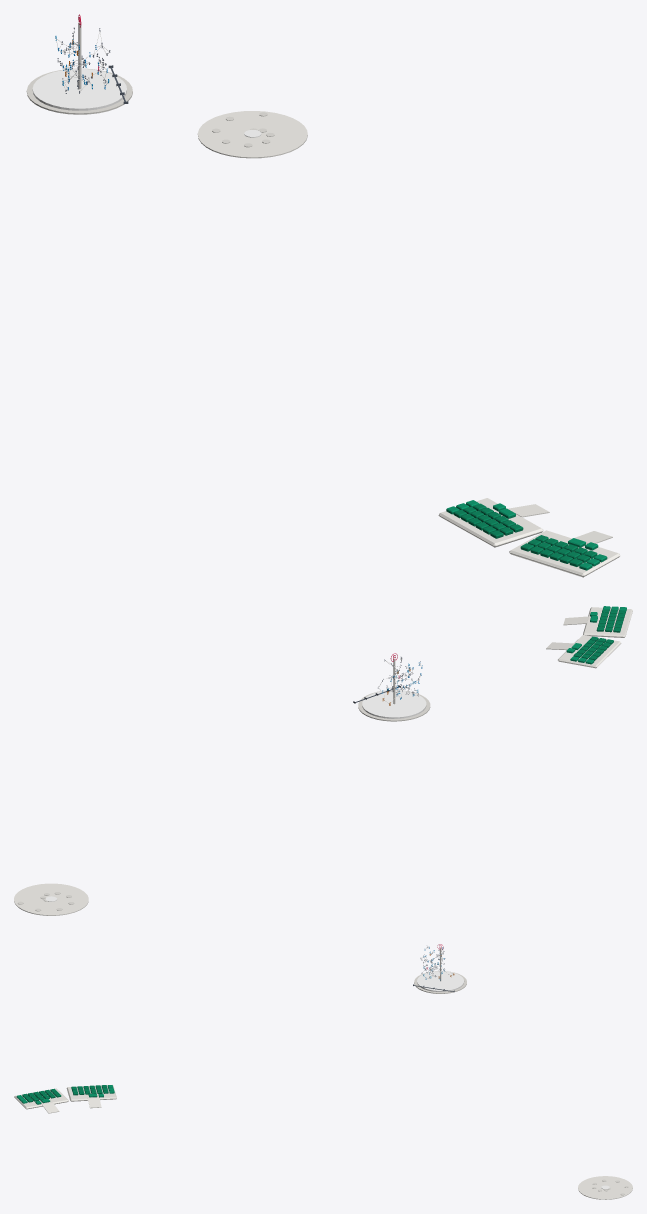
The model's file is terminal.glb.
3 views of the same model, one above another, from view 1: azimuth 30°, elevation 25°; view 2: azimuth 150°, elevation 25°; view 3: azimuth 270°, elevation 25° (orthographic). The views are drawn at different scales.
Bounding box in the file's own units: 127 × 90.68 × 315.
